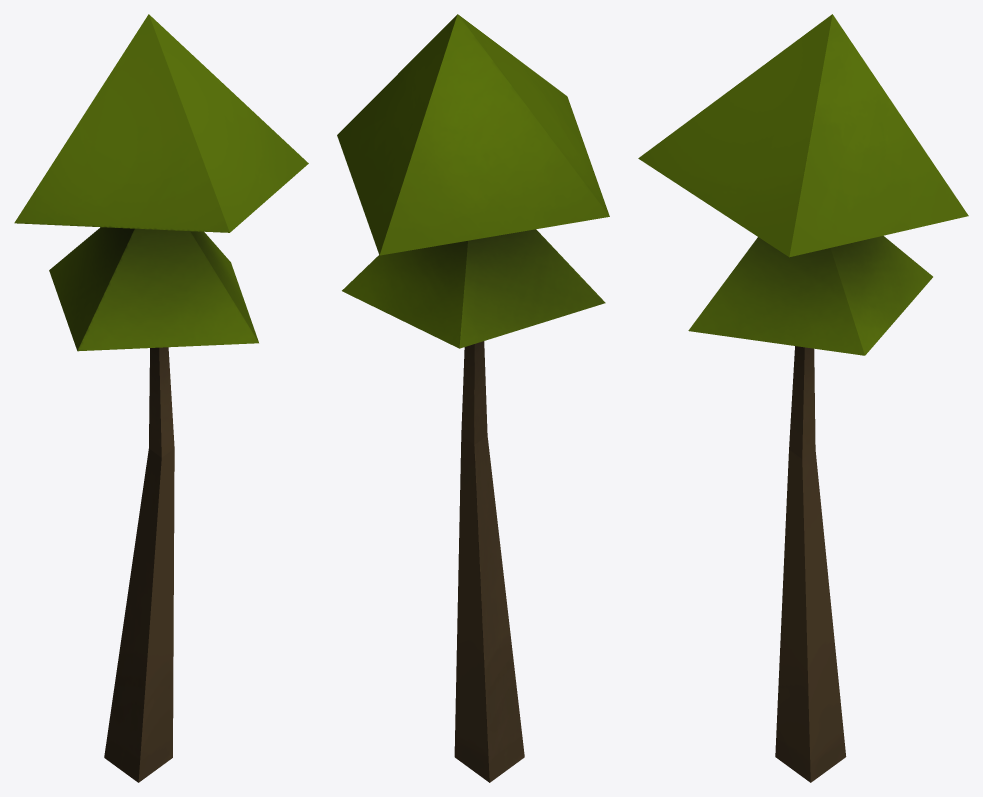
File: Pine_tree_02.FBX
3 views of the same model, side by side, from view 1: azimuth 30°, elevation 25°; view 2: azimuth 150°, elevation 25°; view 3: azimuth 270°, elevation 25° (orthographic). The views are drawn at different scales.
Visible parts, largest first — view 1: Pine_tree_02; view 2: Pine_tree_02; view 3: Pine_tree_02.
Boxes of the visible parts, x1=… form: Pine_tree_02: x1=14, y1=14, x2=308, y2=782; Pine_tree_02: x1=337, y1=14, x2=609, y2=782; Pine_tree_02: x1=638, y1=14, x2=968, y2=782.
Bounding box in the file's own units: 40.98 × 40.52 × 103.
